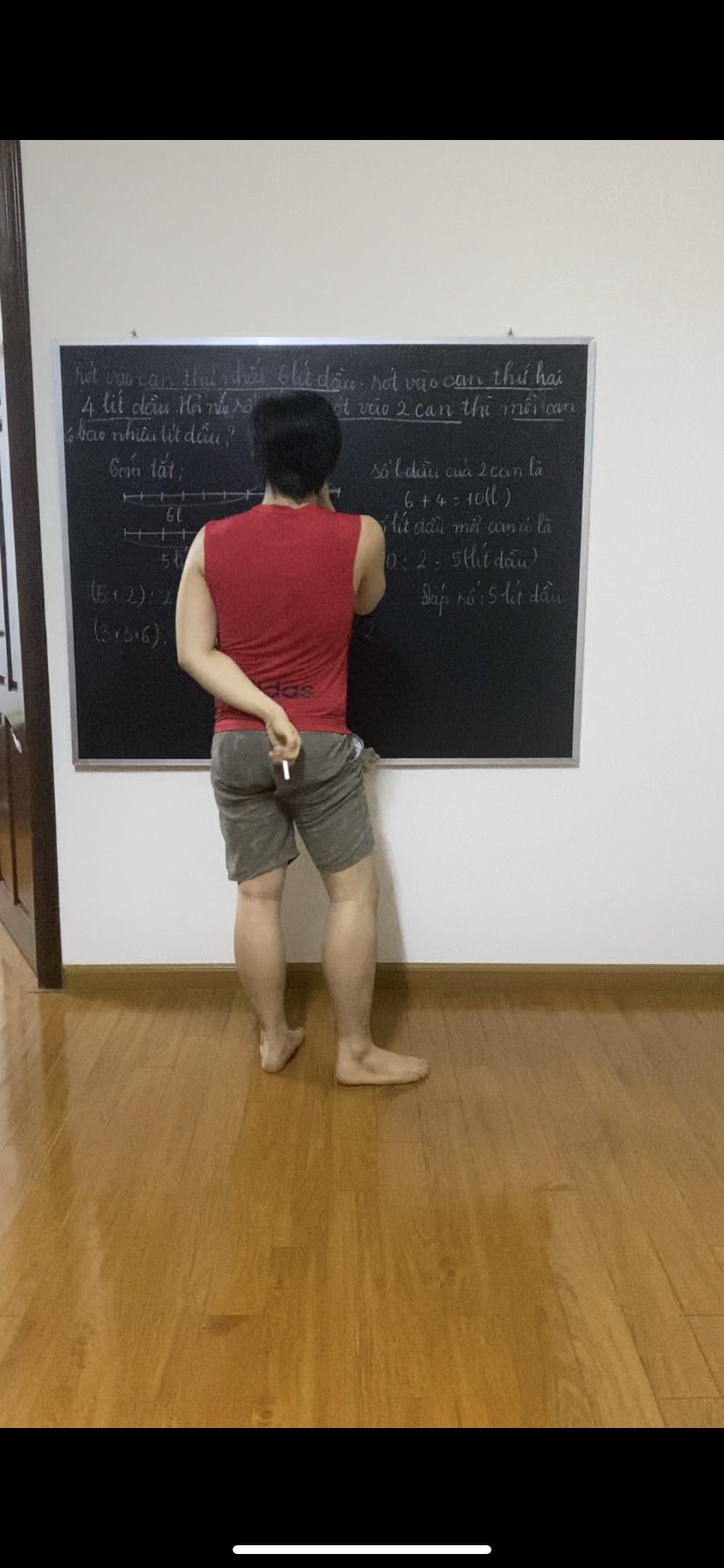cigarette: (279, 758, 295, 784)
person: (173, 376, 415, 1114)
